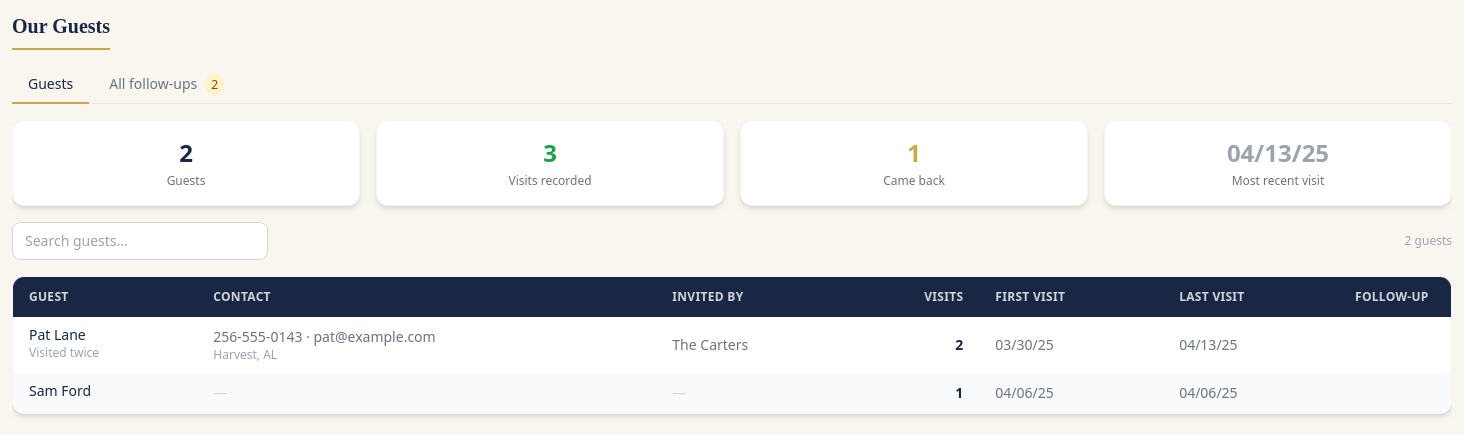
VisitorTracker › says "1 guest" rather than "1 guests"
The width and height of the screenshot is (1464, 435).
Expected: the button "Pat Lane" is shown, [29, 325, 86, 345]
Type "Pat" into the field with placeholder "Search guests…" at [140, 241], box [12, 222, 268, 260]
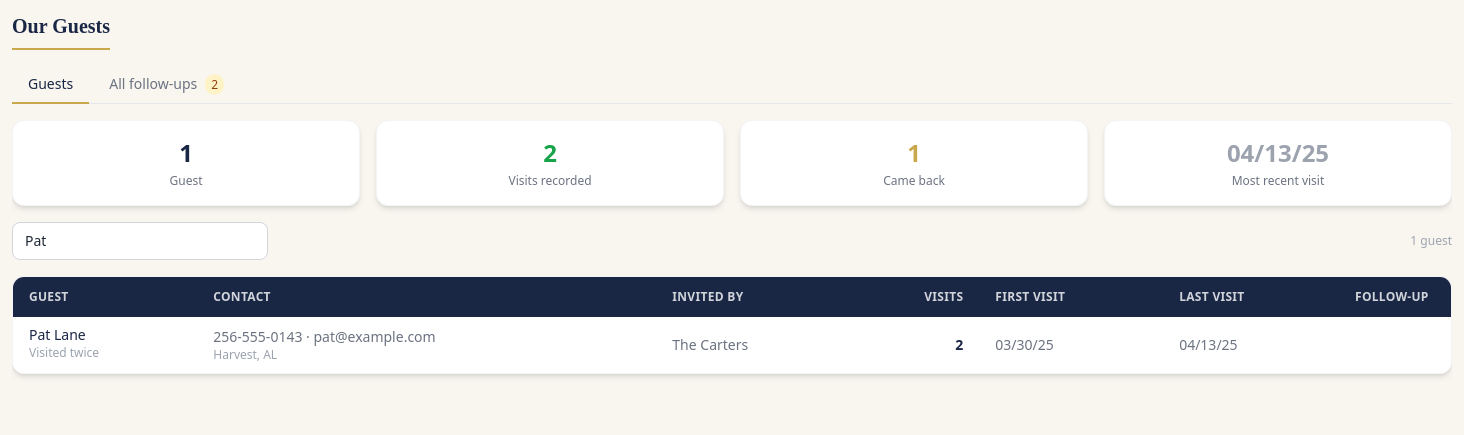
Now the text "1 guest" is shown, box [1410, 233, 1452, 249]
